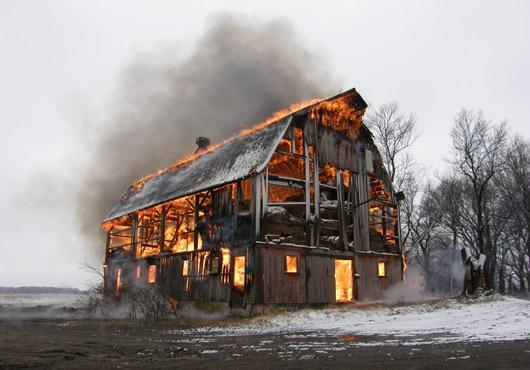fire: (122, 171, 192, 254), (259, 105, 365, 138)
smoke: (89, 55, 187, 166), (196, 26, 255, 130), (258, 24, 330, 95)
